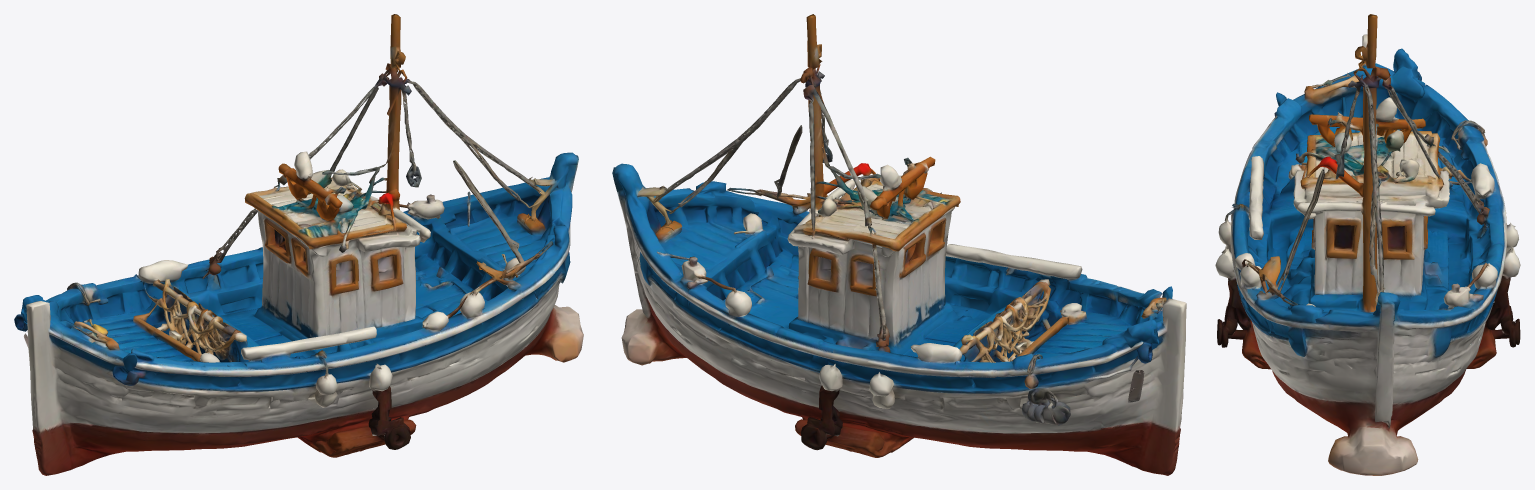
The model's file is balikci.glb.
3 views of the same model, side by side, from view 1: azimuth 30°, elevation 25°; view 2: azimuth 150°, elevation 25°; view 3: azimuth 270°, elevation 25° (orthographic).
Visible parts, largest first — view 1: tripo_node_ddaca5ee-b6a8-4b9c-8ef2-de9b1ea411bb; view 2: tripo_node_ddaca5ee-b6a8-4b9c-8ef2-de9b1ea411bb; view 3: tripo_node_ddaca5ee-b6a8-4b9c-8ef2-de9b1ea411bb.
Boxes of the visible parts, left/top/right/bottom form: tripo_node_ddaca5ee-b6a8-4b9c-8ef2-de9b1ea411bb: left=14, top=14, right=583, bottom=475; tripo_node_ddaca5ee-b6a8-4b9c-8ef2-de9b1ea411bb: left=612, top=14, right=1186, bottom=475; tripo_node_ddaca5ee-b6a8-4b9c-8ef2-de9b1ea411bb: left=1215, top=14, right=1520, bottom=475.
Bounding box in the file's own units: 1 × 0.6389 × 0.4679.
1 material, 1 textured.
